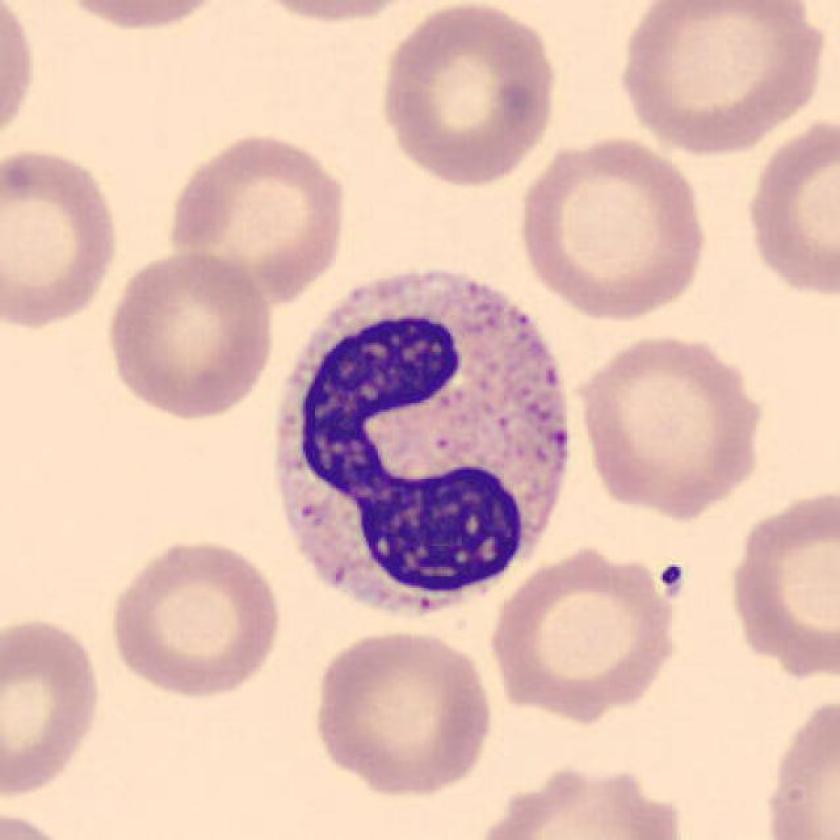neutrophil: (282, 269, 569, 615)
